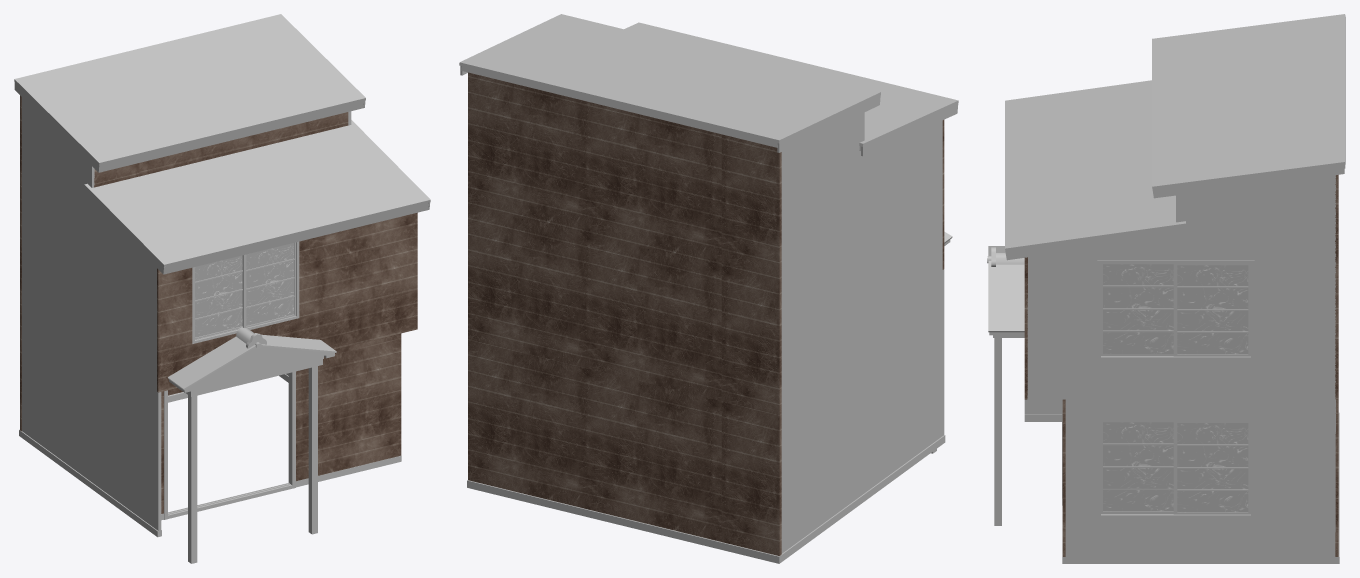
File: JpHouse_28ak.fbx
The picture shows the model from 3 angles, left to right: view 1: azimuth 30°, elevation 25°; view 2: azimuth 150°, elevation 25°; view 3: azimuth 270°, elevation 25°; orthographic projection. The views are drawn at different scales.
Visible parts, largest first — view 1: JpHouse_28ak; view 2: JpHouse_28ak; view 3: JpHouse_28ak.
Part boxes in pixels (x1=…): JpHouse_28ak: x1=14, y1=14, x2=430, y2=563; JpHouse_28ak: x1=459, y1=14, x2=958, y2=563; JpHouse_28ak: x1=987, y1=14, x2=1345, y2=563.
Size of the model in its own units: 4.63 by 6.26 by 4.73.
